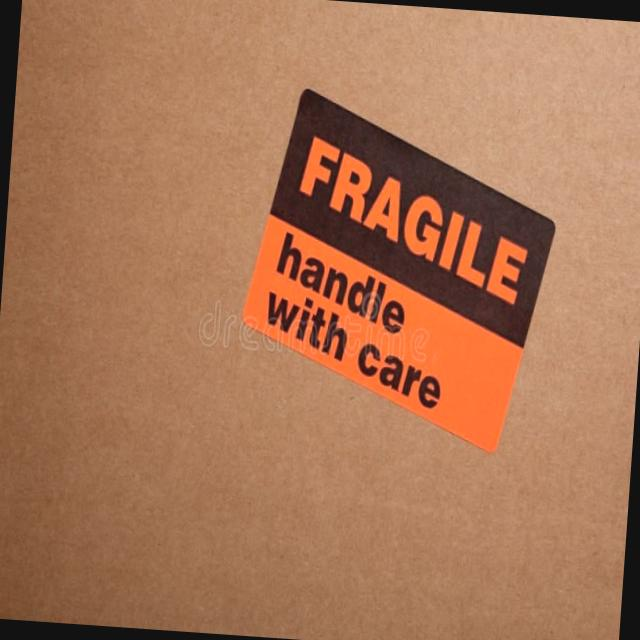carton_box: (0, 0, 640, 640)
fragile_label: (280, 93, 549, 331)
handle_with_care_label: (239, 205, 520, 461)
